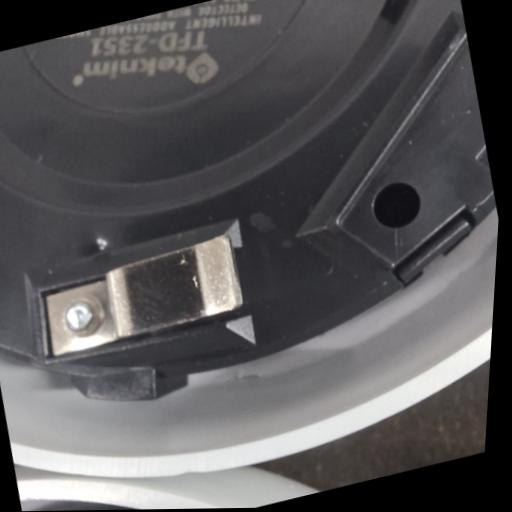yaysiz: (30, 224, 275, 373)
